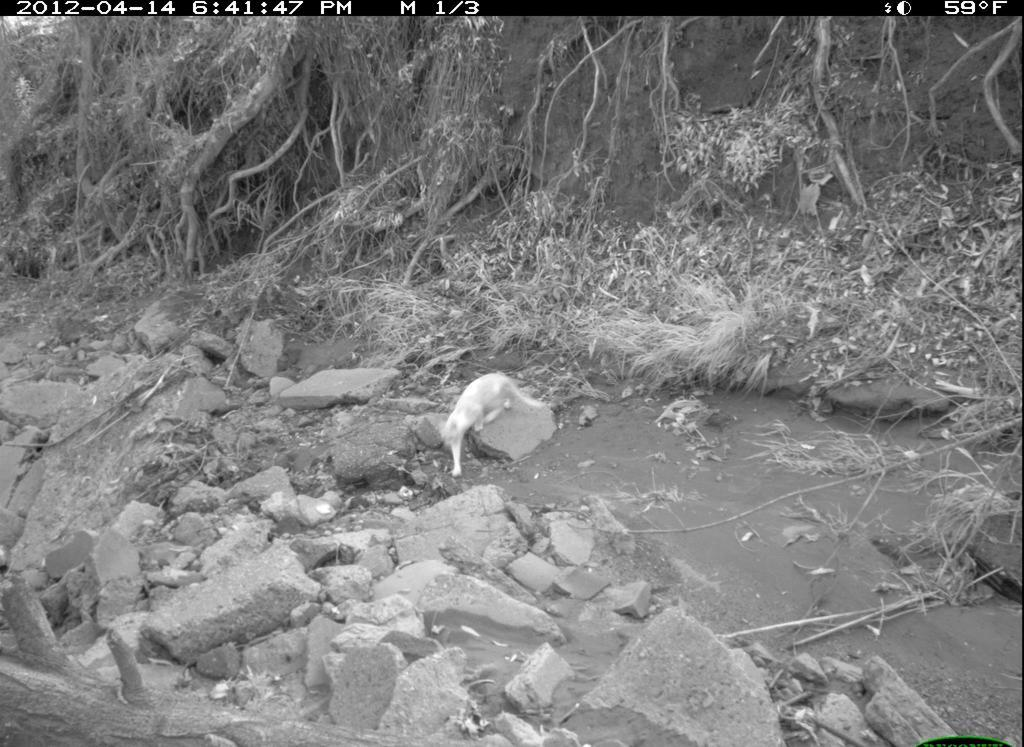cat: (438, 370, 543, 480)
